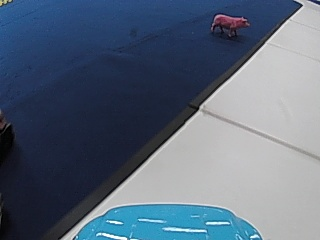pig: (209, 11, 250, 37)
